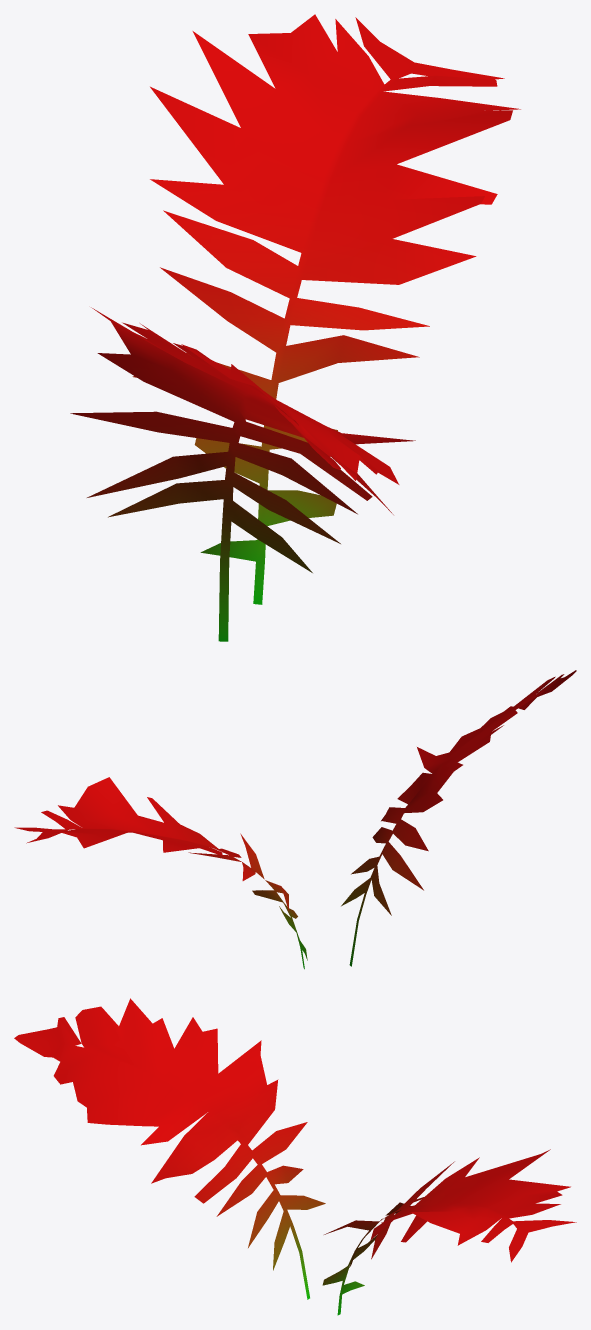
Rendered from Silvery Glade Fern_LOD2_Var4_xf5lebcqx.fbx.
The picture shows the model from 3 angles, top to bottom: view 1: azimuth 30°, elevation 25°; view 2: azimuth 150°, elevation 25°; view 3: azimuth 270°, elevation 25°; orthographic projection. The views are drawn at different scales.
Visible parts, largest first — view 1: _xyy3_Var4_LOD2; view 2: _xyy3_Var4_LOD2; view 3: _xyy3_Var4_LOD2.
Part boxes in pixels (box(x1,y1,x2,y2)): _xyy3_Var4_LOD2: box(70, 14, 520, 641); _xyy3_Var4_LOD2: box(14, 670, 576, 969); _xyy3_Var4_LOD2: box(14, 998, 576, 1315).
Size of the model in its own units: 37.88 by 24.89 by 51.52.
